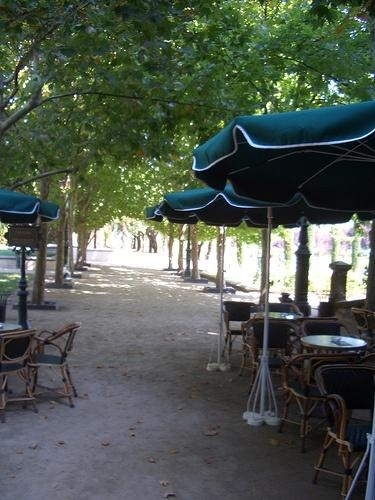chair: (314, 362, 375, 496), (280, 351, 352, 458), (24, 320, 87, 412), (240, 314, 297, 395), (1, 327, 44, 419), (217, 298, 255, 366), (299, 316, 352, 346), (351, 305, 375, 340), (261, 299, 303, 318)
diningtable: (298, 331, 373, 361)
